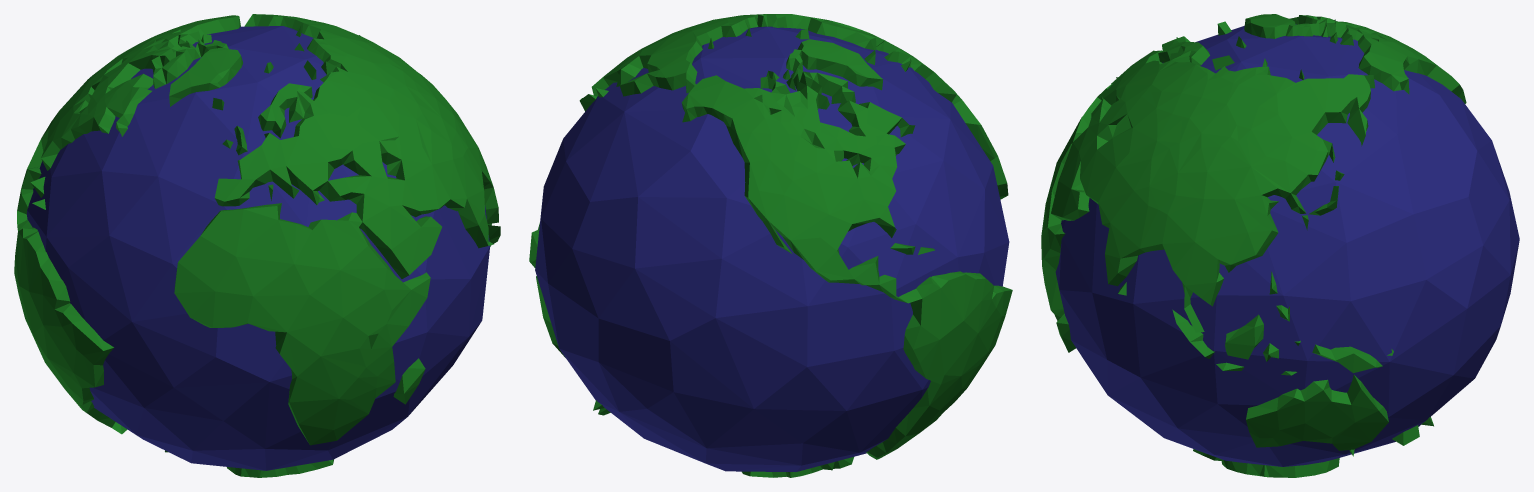
Rendered from earth_textured.fbx.
3 views of the same model, side by side, from view 1: azimuth 30°, elevation 25°; view 2: azimuth 150°, elevation 25°; view 3: azimuth 270°, elevation 25° (orthographic).
Visible parts, largest first — view 1: Sphere.001; view 2: Sphere.001; view 3: Sphere.001.
Part boxes in pixels (x1=…): Sphere.001: x1=14, y1=14, x2=500, y2=477; Sphere.001: x1=529, y1=14, x2=1012, y2=477; Sphere.001: x1=1041, y1=14, x2=1519, y2=477.
Size of the model in its own units: 40667 by 38247 by 40038.
